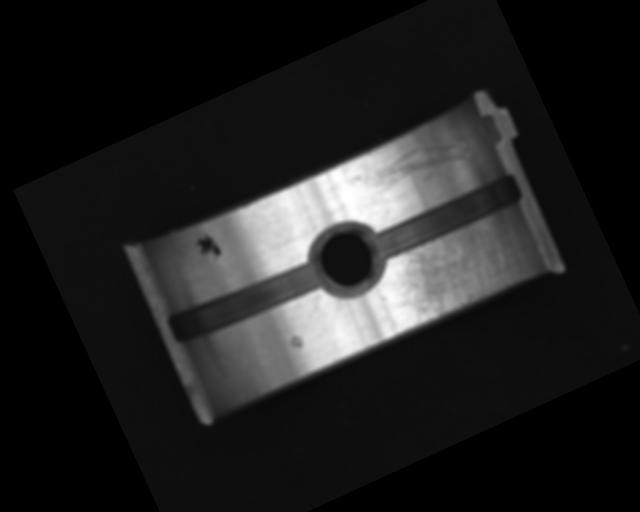blot: (190, 229, 224, 267)
bruise: (285, 332, 307, 354)
gap: (164, 252, 328, 352), (366, 168, 526, 266)
hole: (299, 210, 395, 305)
nick: (348, 128, 469, 211), (319, 296, 352, 331)
scratch: (365, 202, 543, 340)
